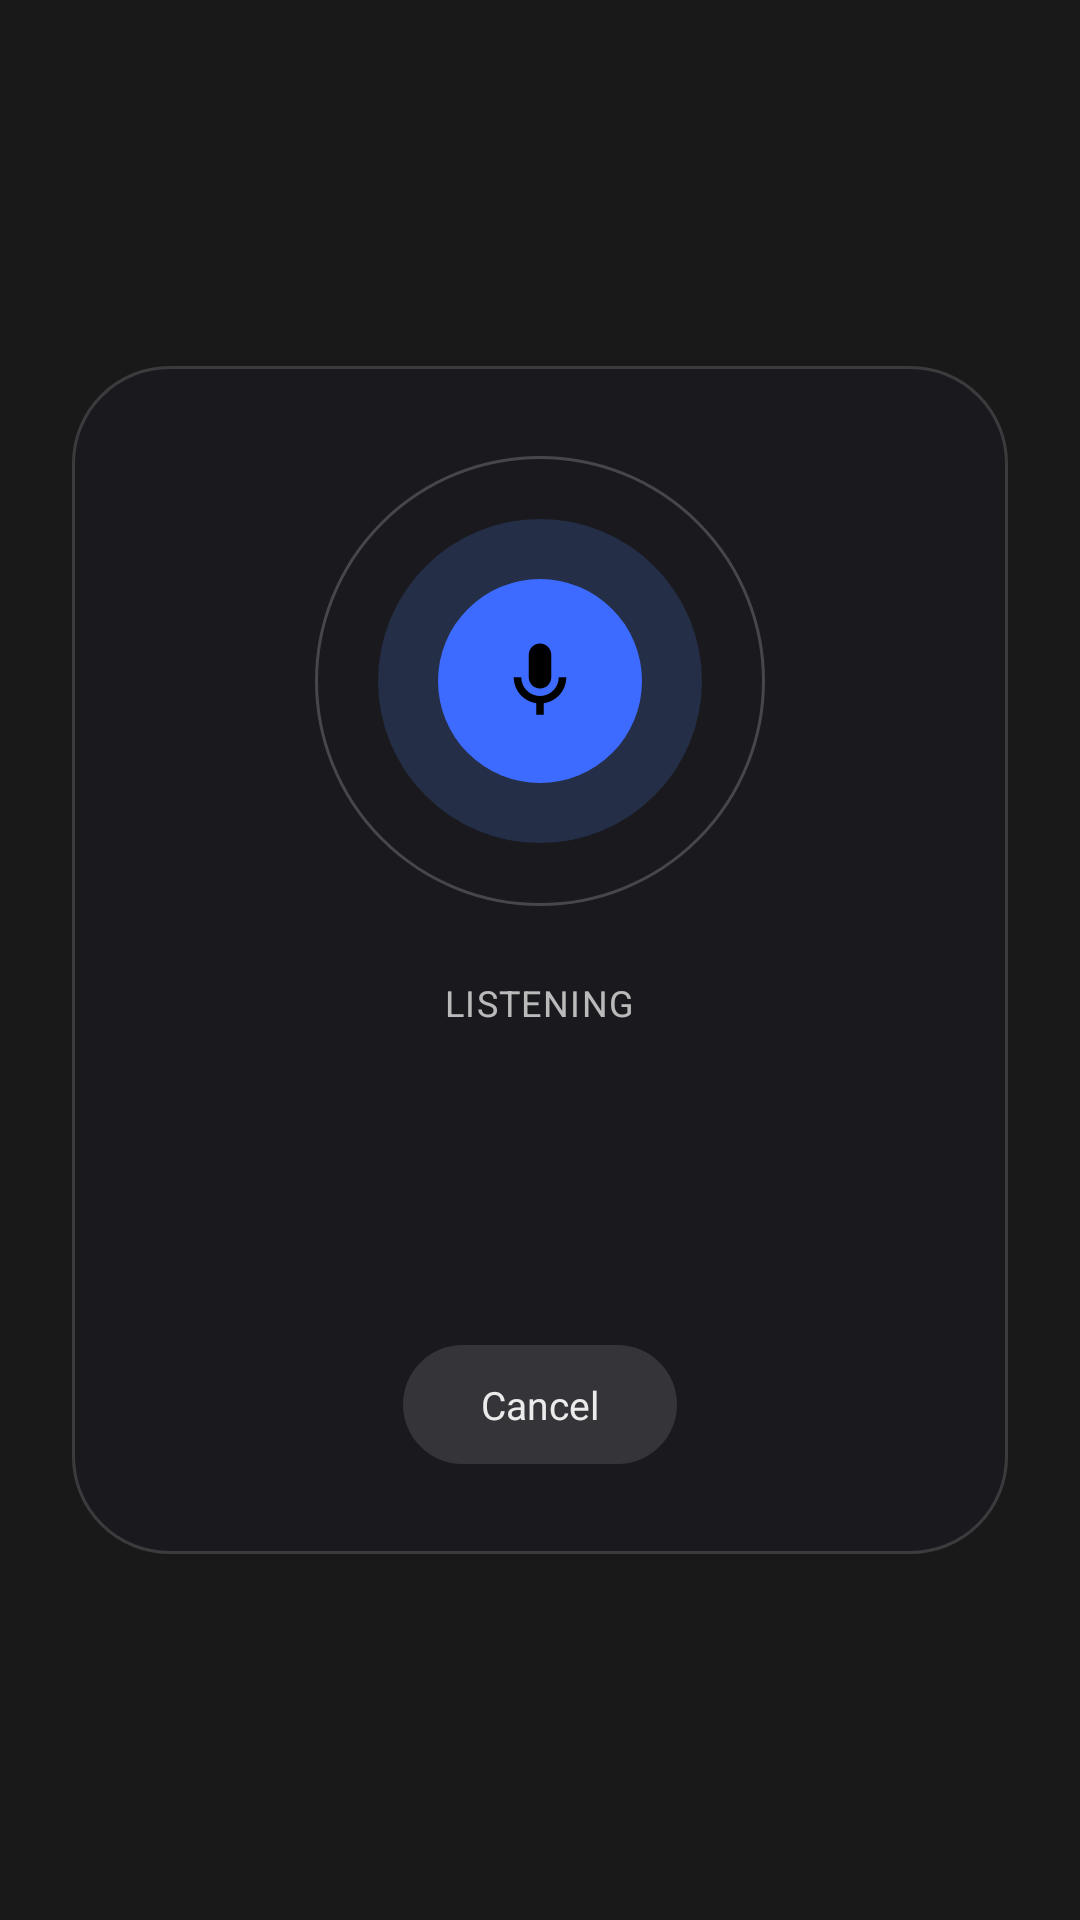

Named icons in this screenshot (1080×1920) and their bounding boxes, (x1, y1, x2, y2):
Voice search: (513, 643, 567, 715)
